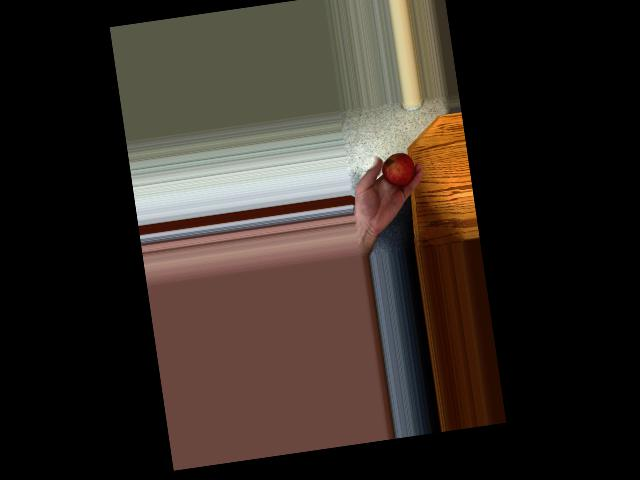apple: (377, 151, 416, 190)
